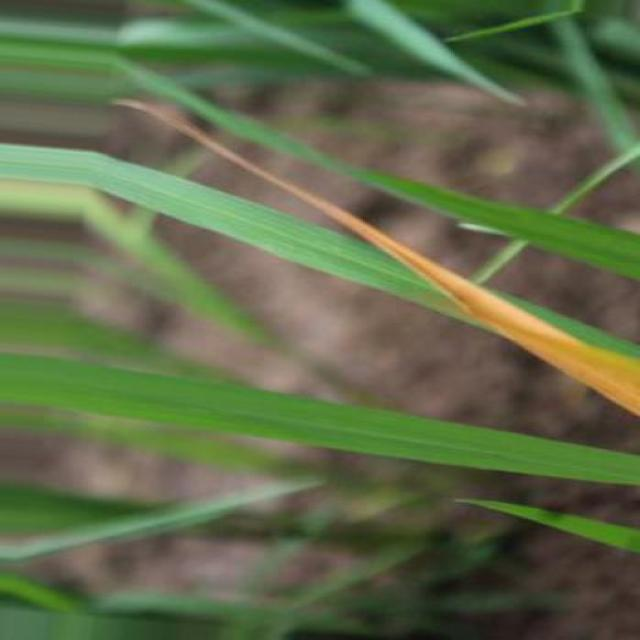Rice Tungro: (116, 100, 639, 414)
